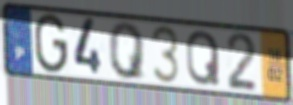2: (225, 31, 260, 95)
3: (150, 23, 181, 87)
4: (72, 15, 108, 80)
G: (33, 12, 70, 77)
Q: (106, 21, 148, 82), (185, 29, 222, 88)
